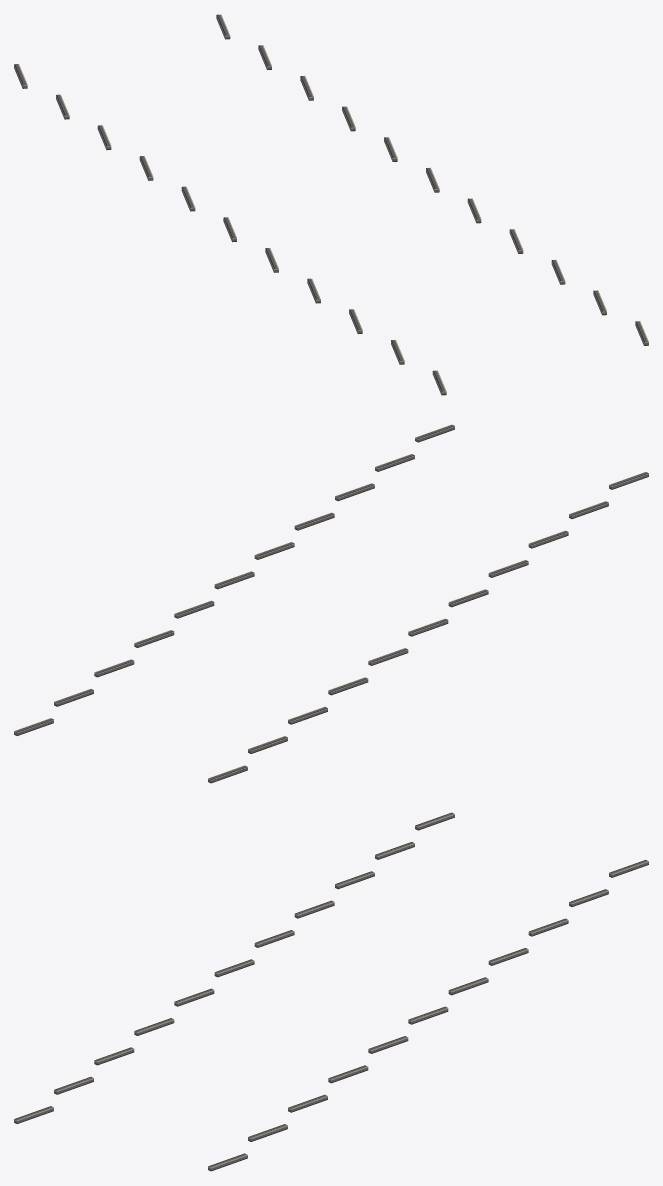
The model's file is lot_wheel_stops.glb.
The picture shows the model from 3 angles, top to bottom: view 1: azimuth 30°, elevation 25°; view 2: azimuth 150°, elevation 25°; view 3: azimuth 330°, elevation 25°; orthographic projection. The views are drawn at different scales.
Visible parts, largest first — view 1: lot_wheel_stops; view 2: lot_wheel_stops; view 3: lot_wheel_stops.
Part boxes in pixels (x1,y1,x2,y2): lot_wheel_stops: [14, 14, 648, 395]; lot_wheel_stops: [14, 424, 648, 783]; lot_wheel_stops: [14, 812, 648, 1171].
Size of the model in its own units: 8.12 by 0.13 by 28.16.
1 material, 1 textured.
